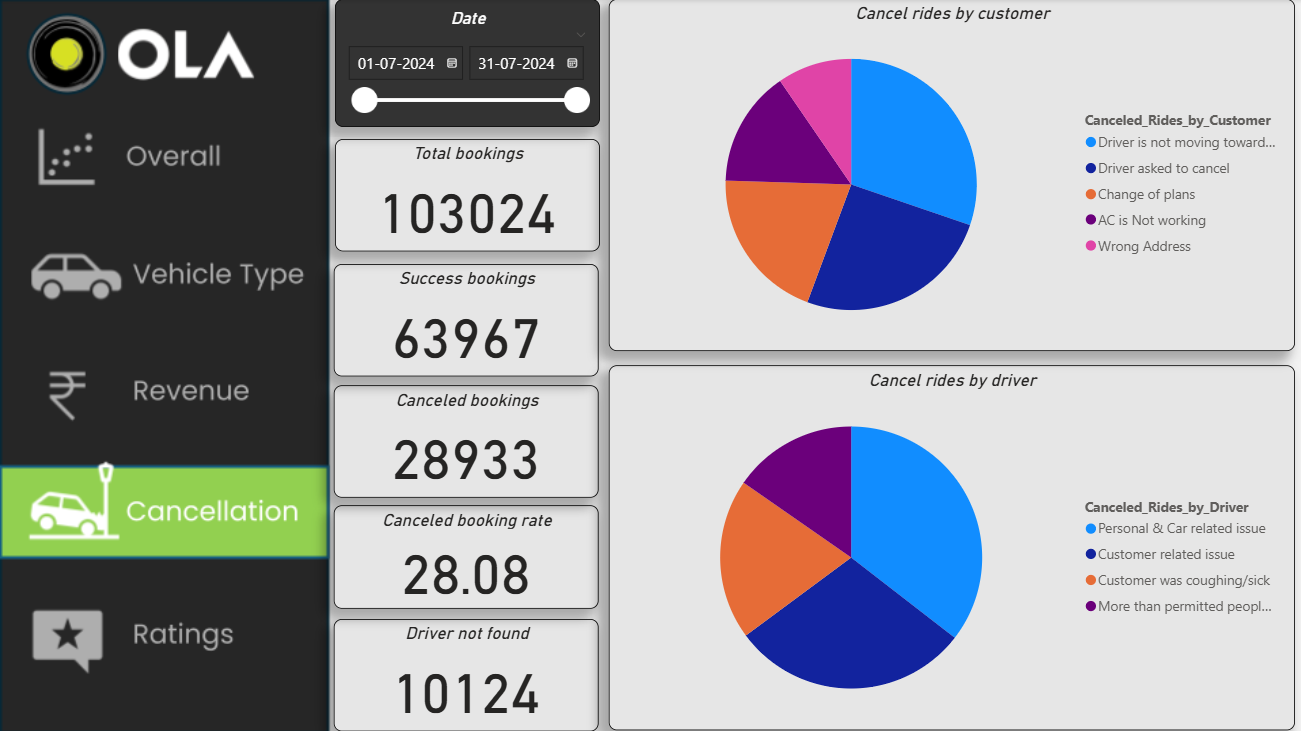

This screenshot's page, from the dashboard's own definition file:
{"tool":"powerbi","page":{"name":"cancellation","canvas":[1280,720],"ordinal":3},"visuals":[{"type":"actionButton","box":[0,223.3,319,92],"z":0},{"type":"actionButton","box":[0,344.8,319,88.3],"z":1000},{"type":"actionButton","box":[0,455.2,319,95.7],"z":2000},{"type":"actionButton","box":[0,579.1,319,90.8],"z":3000},{"type":"actionButton","box":[0,110.4,319,92],"z":4000},{"type":"pieChart","title":"Cancel rides by customer","fields":{"Category":["July (2).Canceled_Rides_by_Customer"],"Y":["CountNonNull(July (2).Canceled_Rides_by_Customer)"]},"box":[597.3,0,673.3,345.3],"z":5000},{"type":"pieChart","title":"Cancel rides by driver","fields":{"Category":["July (2).Canceled_Rides_by_Driver"],"Y":["CountNonNull(July (2).Canceled_Rides_by_Driver)"]},"box":[597.3,360,673.3,358.7],"z":6000},{"type":"slicer","title":"Date","fields":{"Values":["July (2).Date"]},"box":[328.6,0,259.7,126],"z":7000},{"type":"card","title":"Total bookings","fields":{"Values":["CountNonNull(July (2).Booking_ID)"]},"box":[328.6,137.7,259.7,110.4],"z":8000},{"type":"card","title":"Success bookings","fields":{"Values":["CountNonNull(July (2).Booking_ID)"]},"box":[328,260,260,110.7],"z":9000},{"type":"card","title":"Canceled bookings","fields":{"Values":["CountNonNull(July (2).Booking_ID)"]},"box":[328,378.7,260,110.7],"z":10000},{"type":"card","title":"Driver not found","fields":{"Values":["CountNonNull(July (2).Booking_ID)"]},"box":[328,608,260,110.7],"z":11000},{"type":"card","title":"Canceled booking rate","fields":{"Values":["July.CanceledPercentage"]},"box":[328,497.3,260,101.3],"z":12000}]}

Visuals, with their boxes in screenshot pixels (x1, y1, x2, y2), scaled from the page's 1280x720 canvas onto the 1301x731 screenshot:
actionButton: crop(0, 227, 324, 320)
actionButton: crop(0, 350, 324, 440)
actionButton: crop(0, 462, 324, 559)
actionButton: crop(0, 588, 324, 680)
actionButton: crop(0, 112, 324, 205)
"Cancel rides by customer" pieChart: crop(607, 0, 1291, 351)
"Cancel rides by driver" pieChart: crop(607, 366, 1291, 730)
"Date" slicer: crop(334, 0, 598, 128)
"Total bookings" card: crop(334, 140, 598, 252)
"Success bookings" card: crop(333, 264, 598, 376)
"Canceled bookings" card: crop(333, 384, 598, 497)
"Driver not found" card: crop(333, 617, 598, 730)
"Canceled booking rate" card: crop(333, 505, 598, 608)
